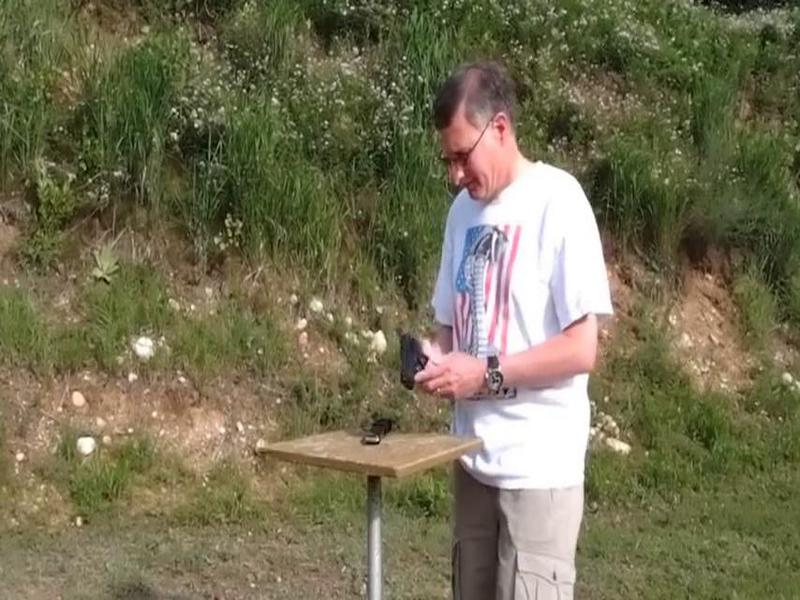Pistola: (393, 322, 448, 397)
